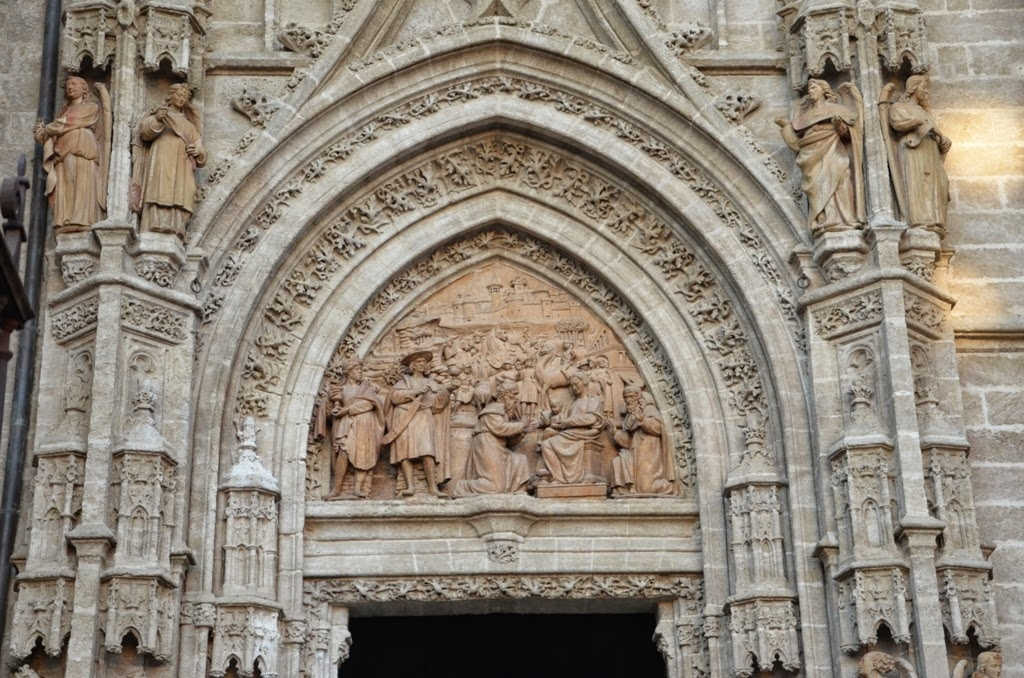arco-apuntado: (184, 9, 811, 494)
